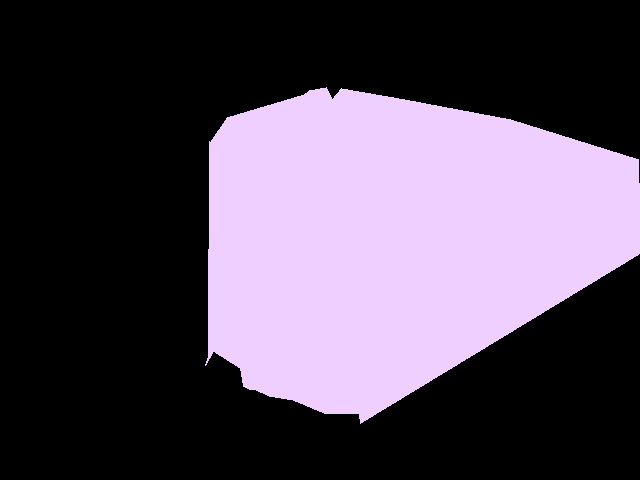Train: (205, 87, 640, 424)
